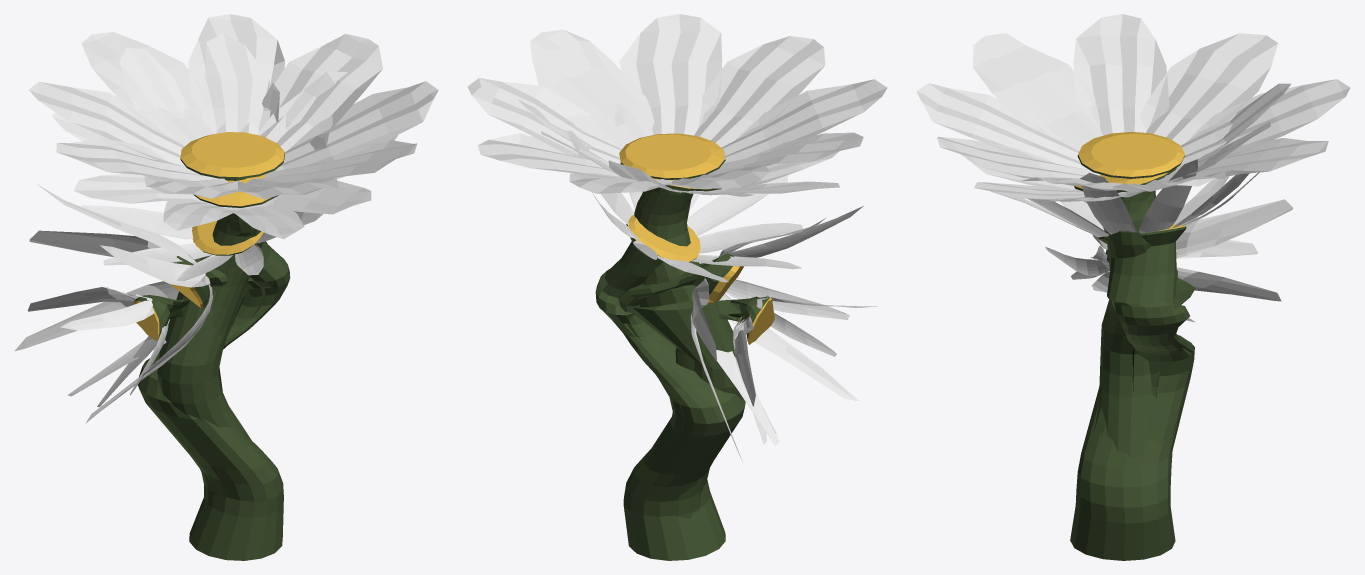
The picture shows the model from 3 angles, left to right: view 1: azimuth 30°, elevation 25°; view 2: azimuth 150°, elevation 25°; view 3: azimuth 270°, elevation 25°; orthographic projection.
Visible parts, largest first — view 1: Flower, Flower.001, Stem.002, Stem, Flower.003, Flower.002, Flower.004, Stem.001, Stem.003, Stem.004; view 2: Flower, Stem.002, Stem, Flower.003, Flower.002, Stem.003, Flower.001, Flower.004, Stem.004; view 3: Flower, Stem.002, Stem, Flower.002, Flower.003, Flower.001, Stem.003, Stem.001, Flower.004.
Part boxes in pixels (x1,y1,x2,y2): Flower: [29, 14, 438, 199]; Flower.001: [51, 33, 397, 239]; Stem.002: [138, 221, 290, 560]; Stem: [157, 132, 284, 505]; Flower.003: [14, 183, 212, 422]; Flower.002: [82, 83, 329, 281]; Flower.004: [27, 287, 168, 407]; Stem.001: [193, 174, 278, 387]; Stem.003: [171, 256, 265, 446]; Stem.004: [133, 295, 189, 340]; Flower: [467, 14, 887, 193]; Stem.002: [595, 215, 745, 560]; Stem: [619, 133, 743, 518]; Flower.003: [690, 206, 863, 461]; Flower.002: [565, 102, 802, 281]; Stem.003: [618, 253, 743, 464]; Flower.001: [518, 99, 839, 196]; Flower.004: [733, 295, 877, 444]; Stem.004: [675, 296, 774, 370]; Flower: [916, 14, 1350, 192]; Stem.002: [1070, 224, 1194, 560]; Stem: [1077, 131, 1195, 458]; Flower.002: [990, 159, 1259, 237]; Flower.003: [1045, 199, 1292, 322]; Flower.001: [967, 83, 1290, 202]; Stem.003: [1094, 249, 1191, 449]; Stem.001: [1074, 166, 1178, 376]; Flower.004: [1071, 240, 1257, 279].
Size of the model in its own units: 735 by 858 by 759.
